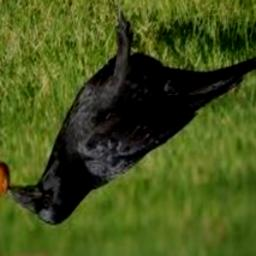Crow: (6, 11, 256, 228)
